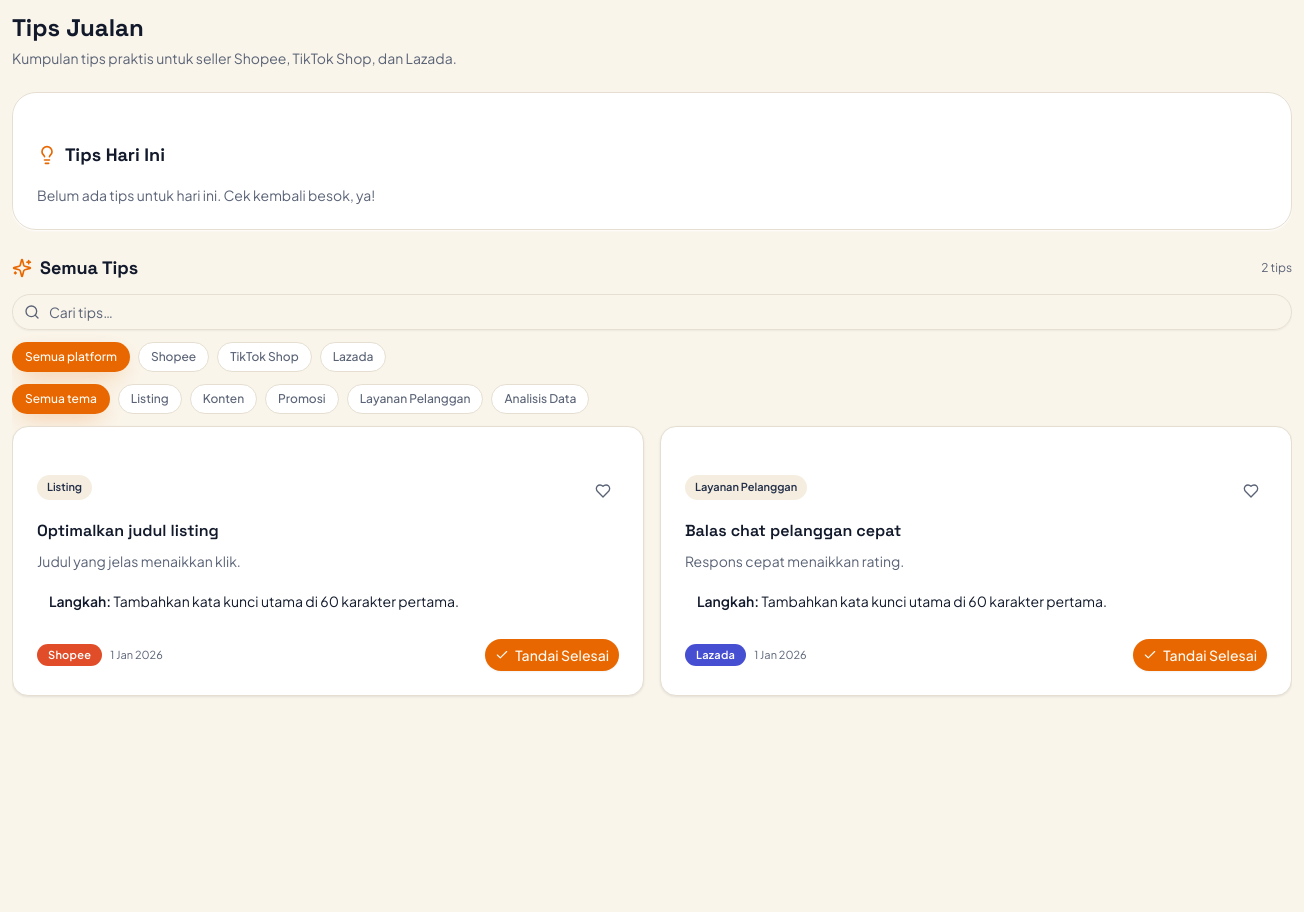
Test case: TipsPage › shows an empty state when no tip matches the search
This screenshot has width=1304, height=912.
Expected: the heading "Optimalkan judul listing" is shown, 37,520 -> 219,541
Type "zzz-tidak-ada" into the search field with test id "tips.search_input" at (652, 312), box 12,294 -> 1292,330
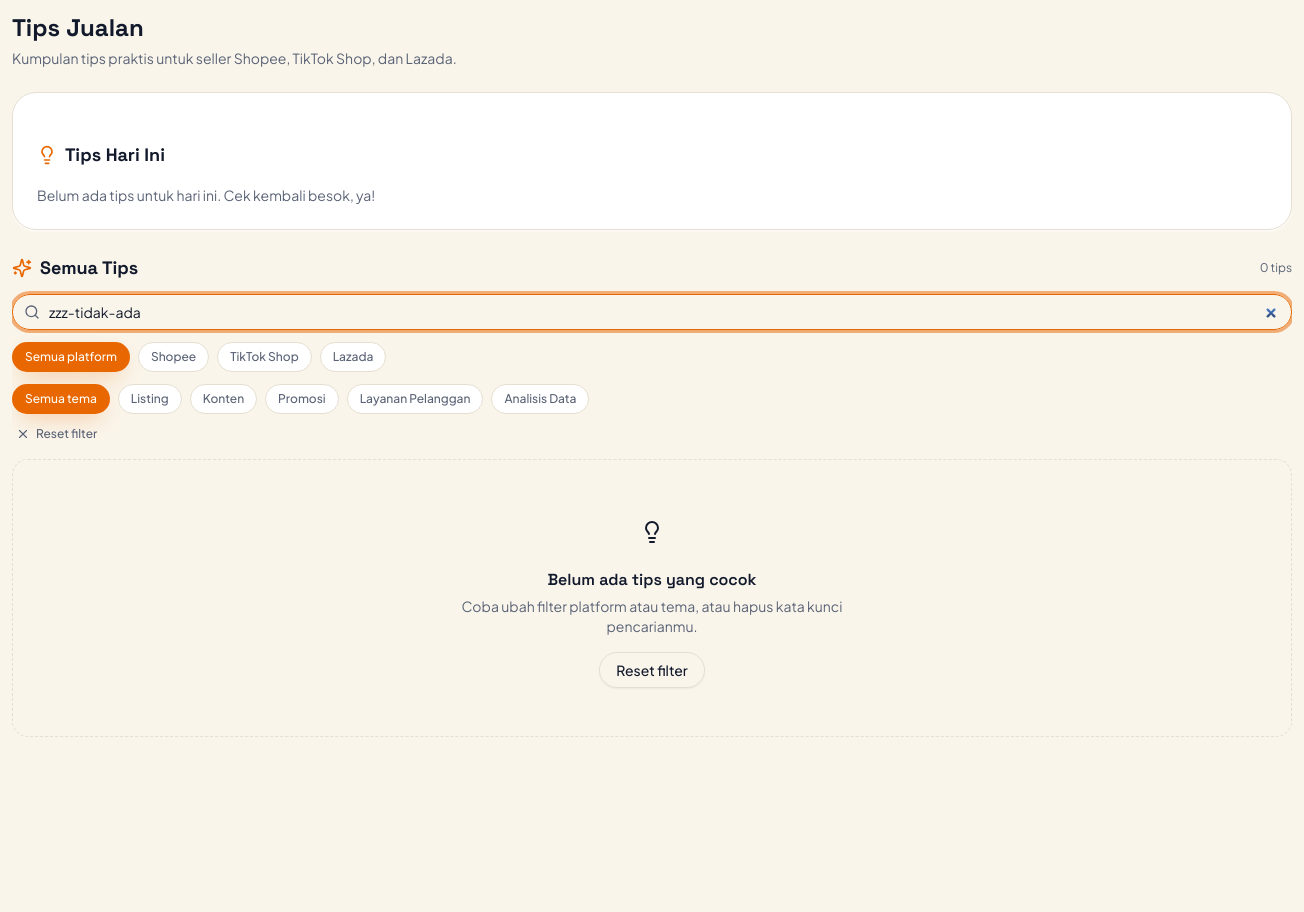
Result: the heading "Belum ada tips yang cocok" is shown at 548,569 -> 757,590
